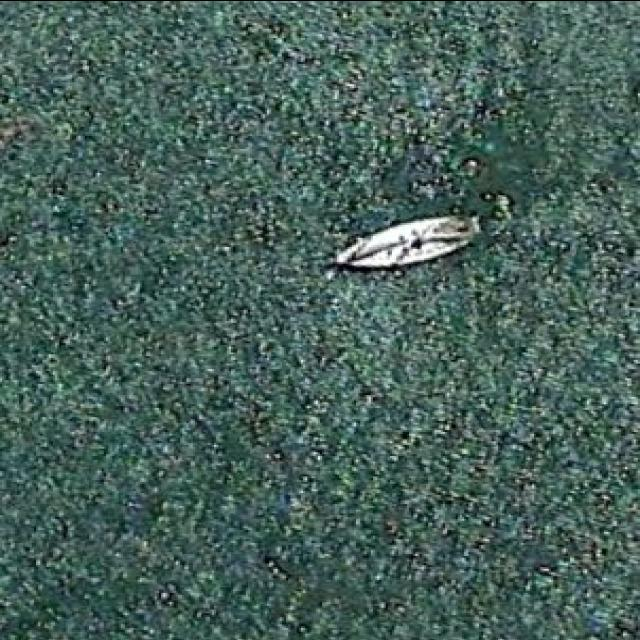ship: (333, 211, 483, 274)
